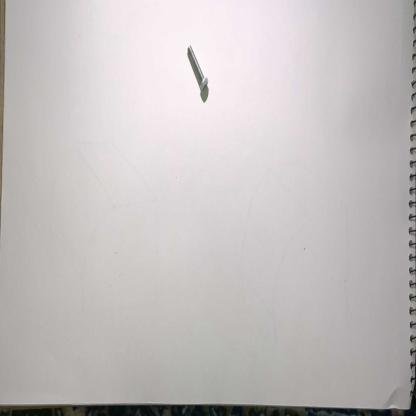Bolts: (181, 41, 214, 95)
